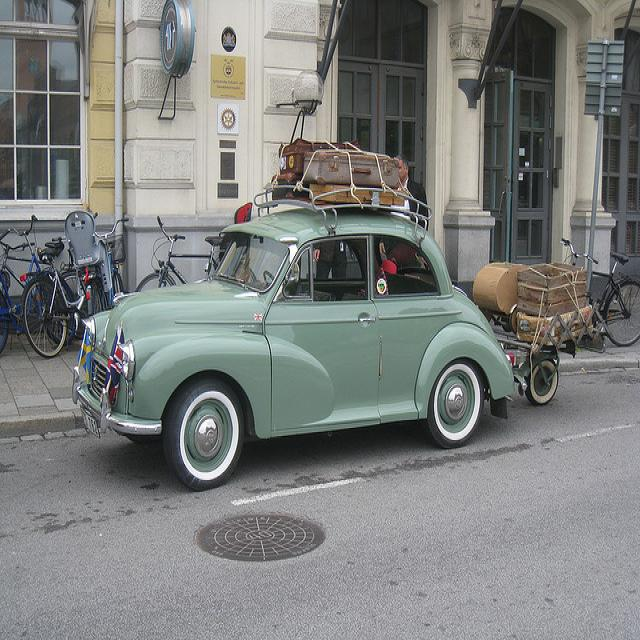Vehicle: (70, 209, 530, 493)
